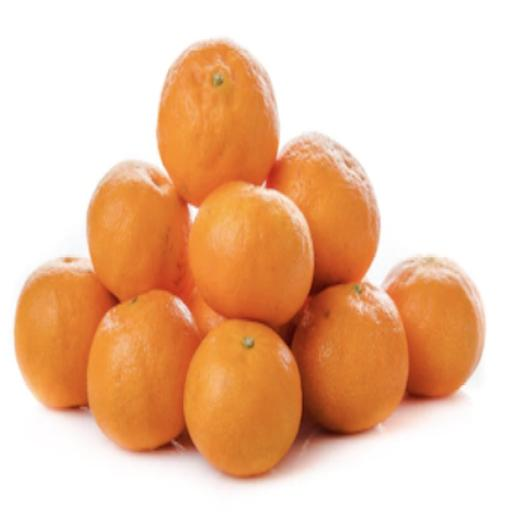orange: (157, 40, 279, 206), (184, 320, 302, 476), (267, 133, 380, 292), (88, 291, 199, 451), (189, 182, 313, 325), (293, 283, 408, 432), (15, 258, 116, 408), (88, 160, 193, 301), (383, 255, 485, 397), (187, 287, 225, 338)
